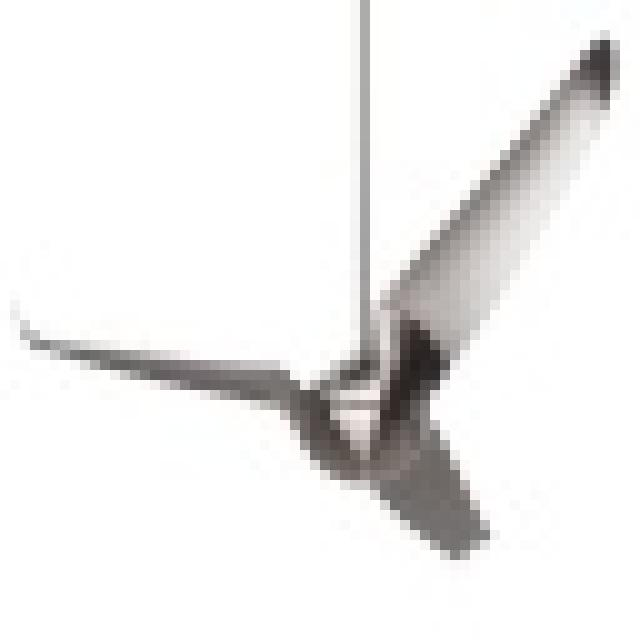Bulb: (34, 76, 634, 568)
